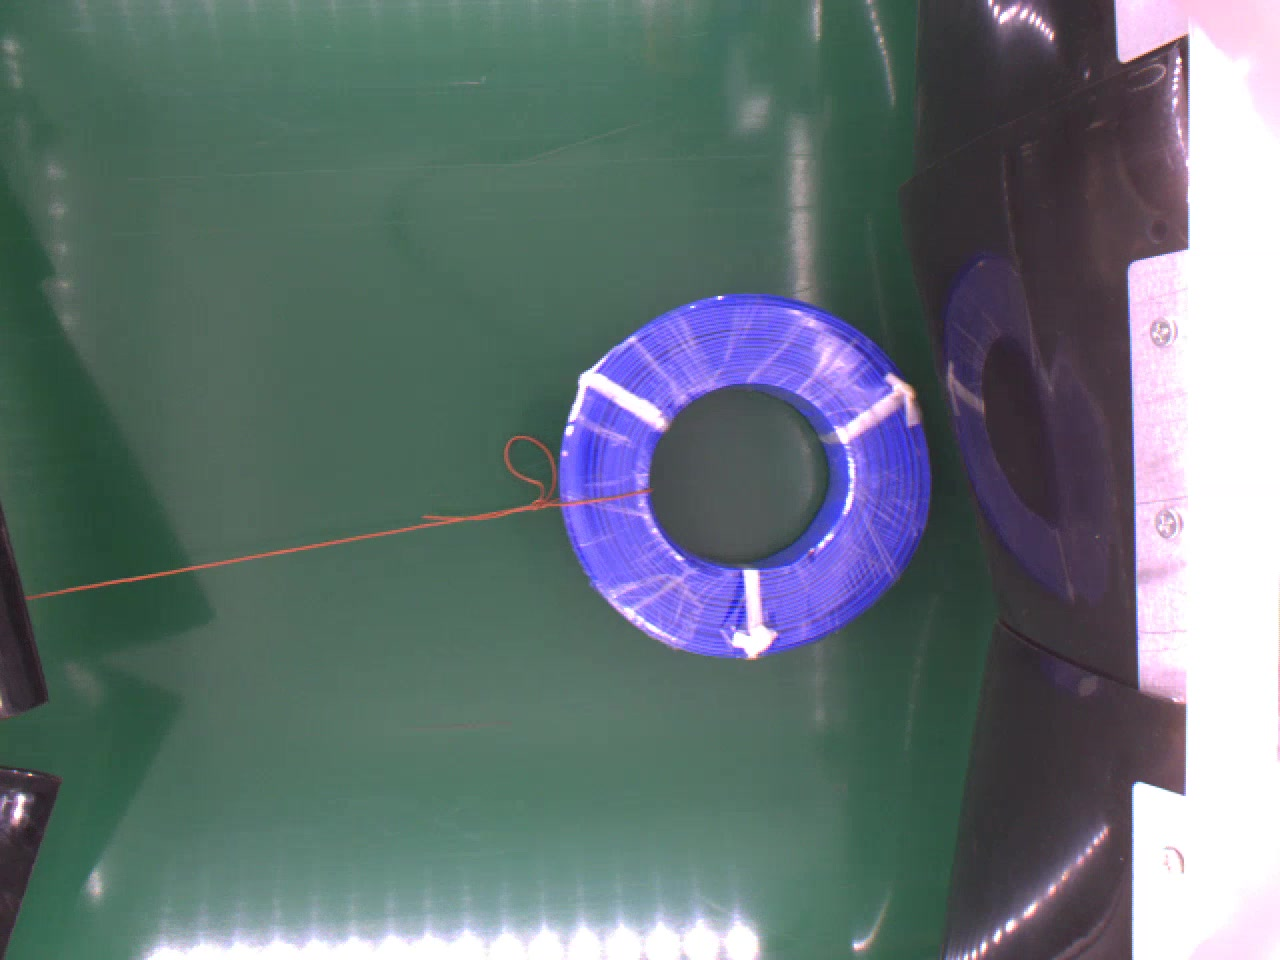blue: (559, 289, 939, 659)
